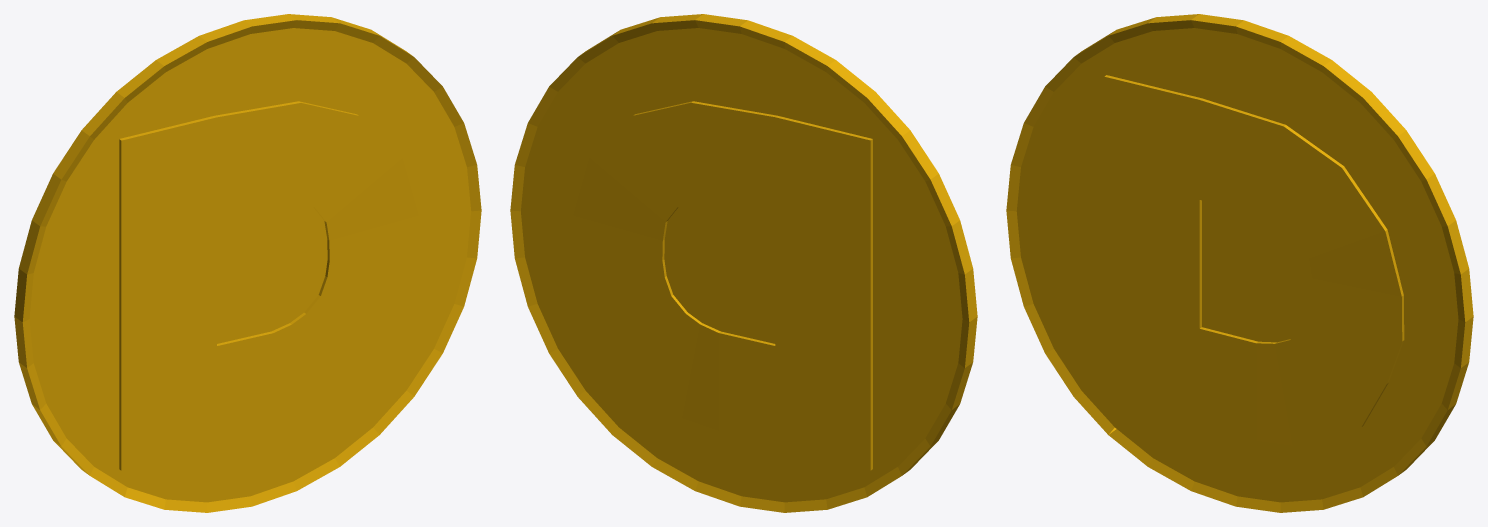
The model's file is coin.fbx.
The picture shows the model from 3 angles, left to right: view 1: azimuth 30°, elevation 25°; view 2: azimuth 150°, elevation 25°; view 3: azimuth 330°, elevation 25°; orthographic projection.
Visible parts, largest first — view 1: Circle; view 2: Circle; view 3: Circle.
Boxes of the visible parts, bbox=[...] form: Circle: bbox=[14, 14, 481, 512]; Circle: bbox=[510, 14, 977, 512]; Circle: bbox=[1006, 14, 1473, 512].
Bounding box in the file's own units: 208 × 208 × 7.09.
